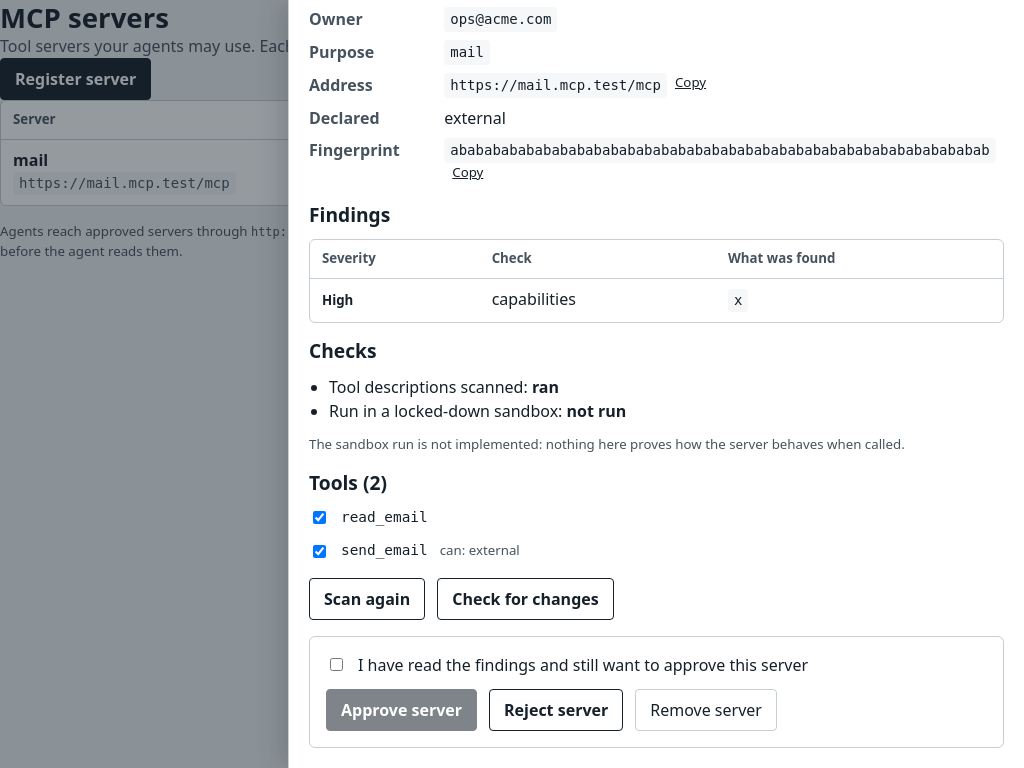
Test: MCP servers › a rejected recommendation needs an acknowledgement before the approve button works
(page scrolled)
expect the button "Approve server" is disabled: met, box [326,689,477,731]
Click the checkbox labelled "still want to approve": (336, 665) [330,658,343,672]
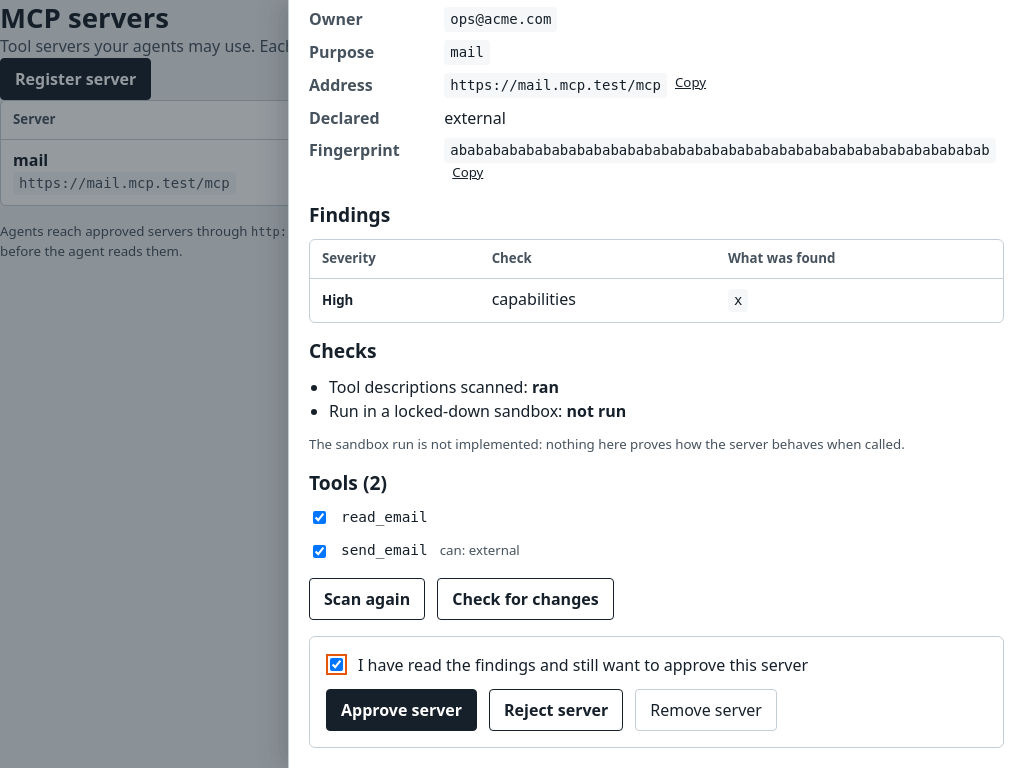
Click the button "Approve server": (402, 710) [326,689,477,731]
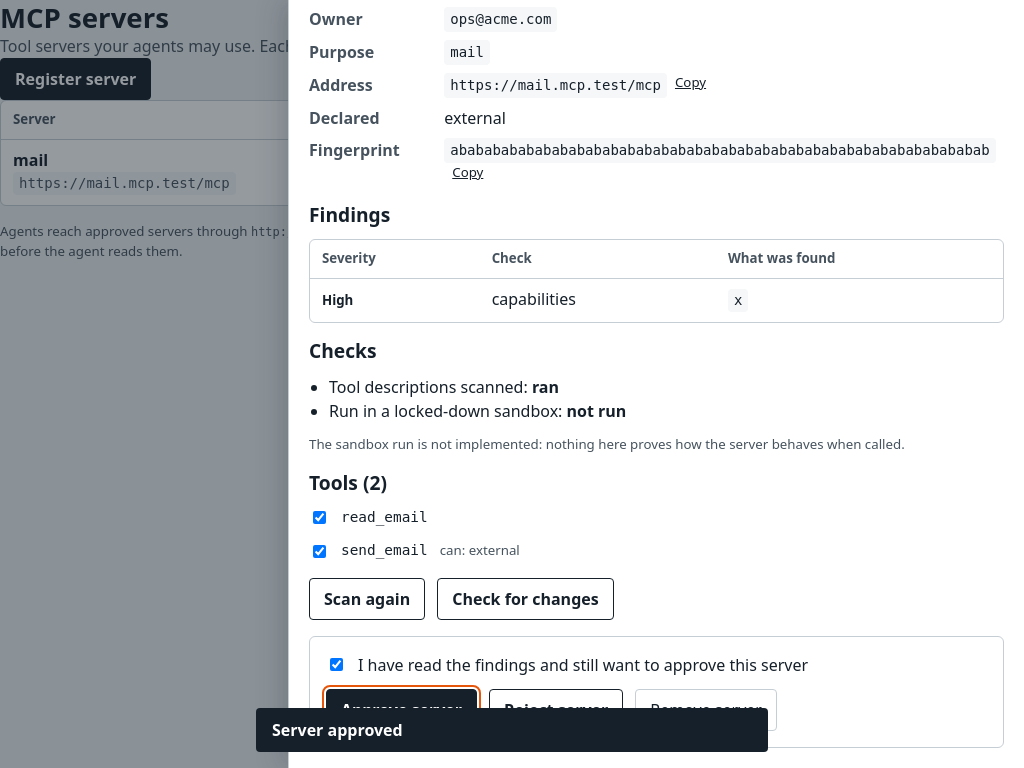
expect the text "Server approved" is shown: met, box [256,708,768,752]
